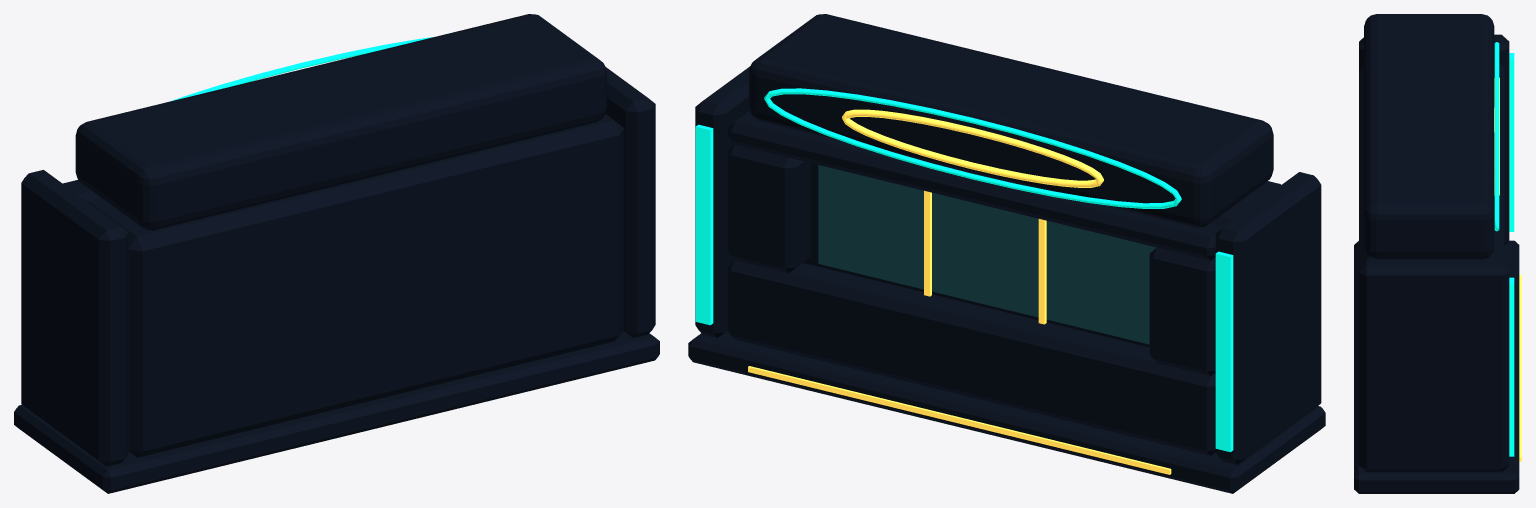
Rendered from slot.glb.
The picture shows the model from 3 angles, left to right: view 1: azimuth 30°, elevation 25°; view 2: azimuth 150°, elevation 25°; view 3: azimuth 270°, elevation 25°; orthographic projection. The views are drawn at different scales.
Visible parts, largest first — view 1: slot_core, slot_crown, slot_pylon_L, slot_plinth, slot_pylon_R, slot_ring_teal; view 2: slot_crown, slot_face_lower, slot_reel_glass, slot_pylon_L, slot_plinth, slot_face_upper, slot_face_side_R, slot_face_side_L, slot_pylon_R, slot_ring_teal, slot_ring_gold, slot_pylon_glow_R (+5 smaller); view 3: slot_pylon_R, slot_crown, slot_plinth, slot_pylon_L, slot_face_upper, slot_ring_teal, slot_pylon_glow_R, slot_pylon_glow_L, slot_core, slot_plinth_glow, slot_ring_gold.
Boxes of the visible parts, bbox=[...] form: slot_core: bbox=[88, 114, 624, 457]; slot_crown: bbox=[75, 14, 606, 230]; slot_pylon_L: bbox=[21, 170, 128, 466]; slot_plinth: bbox=[14, 331, 659, 493]; slot_pylon_R: bbox=[605, 67, 655, 338]; slot_ring_teal: bbox=[170, 37, 433, 101]; slot_crown: bbox=[749, 14, 1273, 227]; slot_face_lower: bbox=[727, 260, 1215, 455]; slot_reel_glass: bbox=[818, 165, 1156, 344]; slot_pylon_L: bbox=[1215, 172, 1321, 464]; slot_plinth: bbox=[688, 331, 1325, 493]; slot_face_upper: bbox=[727, 111, 1223, 260]; slot_face_side_R: bbox=[727, 144, 810, 273]; slot_face_side_L: bbox=[1149, 247, 1215, 375]; slot_pylon_R: bbox=[695, 66, 750, 337]; slot_ring_teal: bbox=[764, 88, 1181, 208]; slot_ring_gold: bbox=[842, 109, 1103, 187]; slot_pylon_glow_R: bbox=[695, 124, 713, 325]; slot_pylon_R: bbox=[1359, 259, 1509, 472]; slot_crown: bbox=[1364, 14, 1494, 259]; slot_plinth: bbox=[1354, 240, 1519, 493]; slot_pylon_L: bbox=[1359, 34, 1509, 245]; slot_face_upper: bbox=[1483, 61, 1504, 260]; slot_ring_teal: bbox=[1494, 42, 1499, 231]; slot_pylon_glow_R: bbox=[1509, 277, 1514, 456]; slot_pylon_glow_L: bbox=[1509, 53, 1514, 231]; slot_core: bbox=[1359, 67, 1375, 265]; slot_plinth_glow: bbox=[1519, 275, 1521, 461]; slot_ring_gold: bbox=[1494, 77, 1499, 195].
Size of the model in its own units: 2.24 by 1.18 by 0.67.
